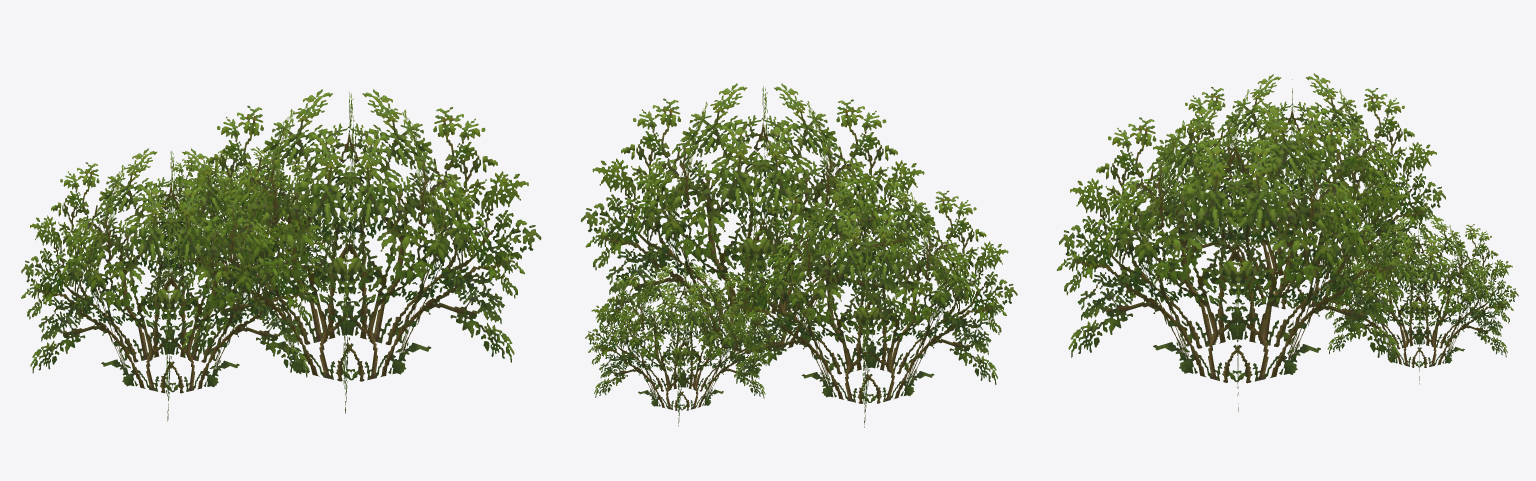
Rendered from grs_weed09_1.glb.
3 views of the same model, side by side, from view 1: azimuth 30°, elevation 25°; view 2: azimuth 150°, elevation 25°; view 3: azimuth 270°, elevation 25° (orthographic). The views are drawn at different scales.
Visible parts, largest first — view 1: grs_weed09_1; view 2: grs_weed09_1; view 3: grs_weed09_1.
Part boxes in pixels (box(x1,y1,x2,y2)): grs_weed09_1: box(21, 89, 541, 421); grs_weed09_1: box(581, 83, 1017, 427); grs_weed09_1: box(1056, 73, 1518, 411).
Size of the model in its own units: 15.43 by 7.96 by 12.98.
Materials: 1 (1 with a texture image).
